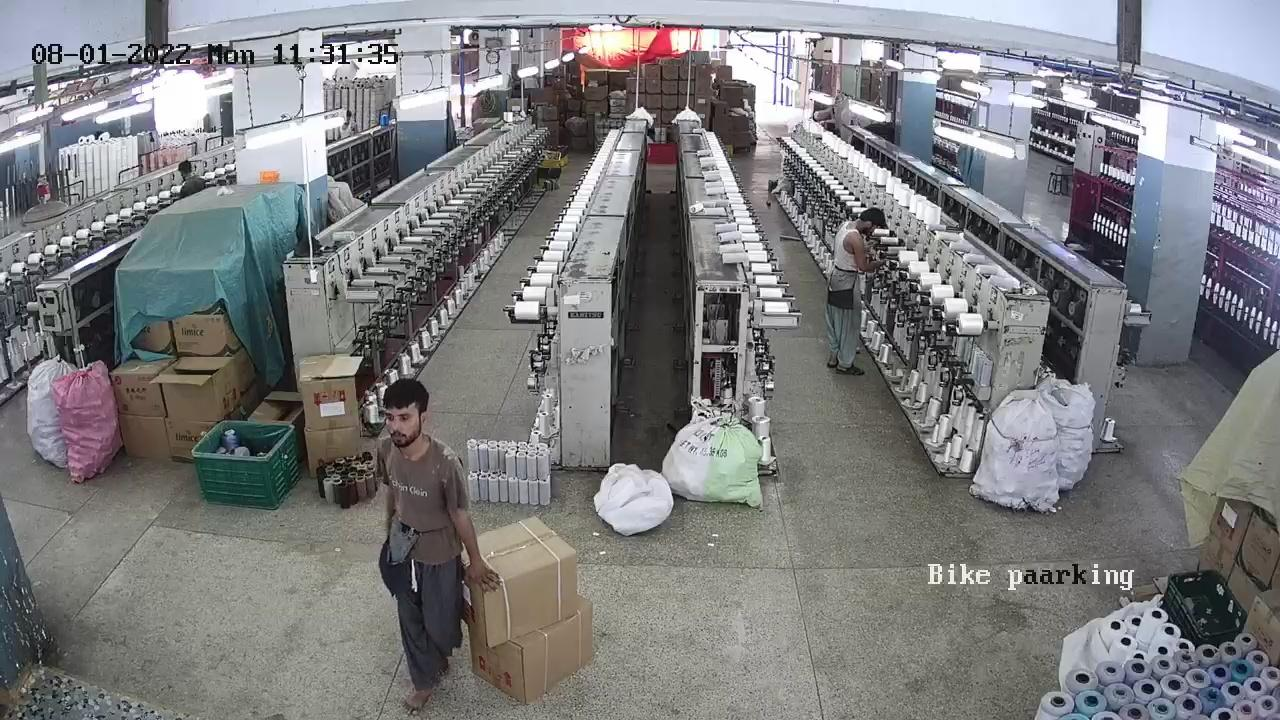person: (372, 382, 474, 692), (825, 197, 886, 385)
